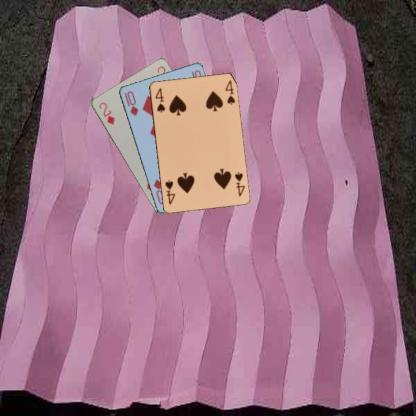10d: (122, 88, 140, 117)
2d: (96, 99, 116, 126)
4s: (152, 85, 166, 114), (232, 169, 246, 198)
